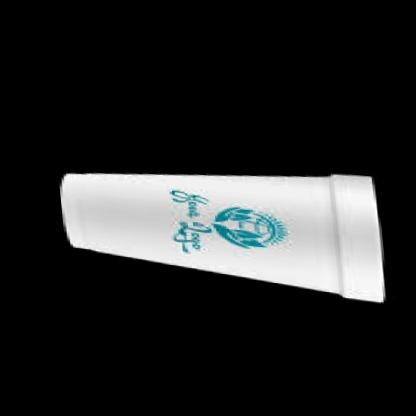trash: (61, 174, 384, 301)
